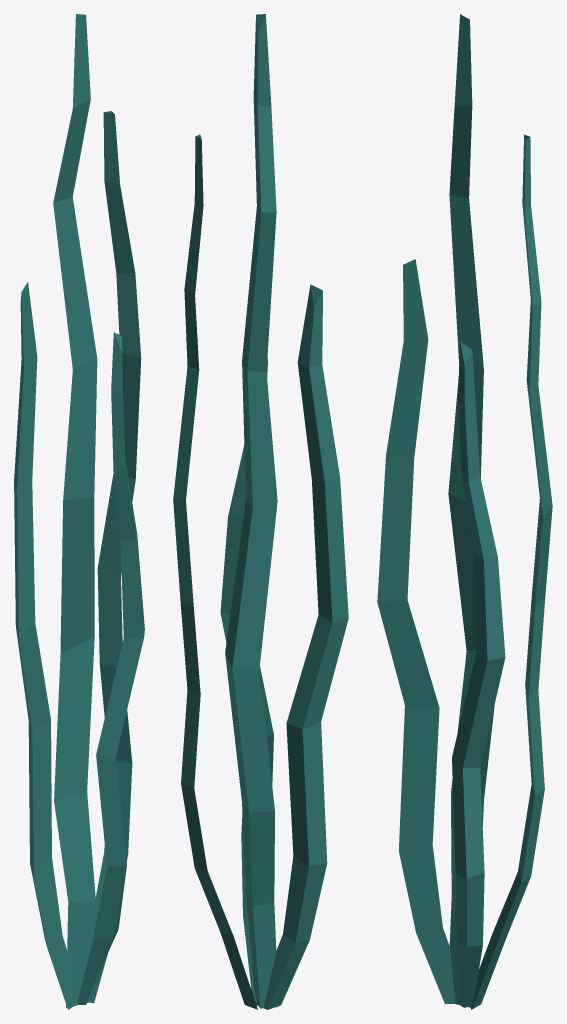
Rendered from SM_Water_Grass_Long_Dead_B.fbx.
3 views of the same model, side by side, from view 1: azimuth 30°, elevation 25°; view 2: azimuth 150°, elevation 25°; view 3: azimuth 330°, elevation 25° (orthographic).
Parts seen in each view (by area): view 1: water-grass-long-dead-b; view 2: water-grass-long-dead-b; view 3: water-grass-long-dead-b.
Part boxes in pixels (box(x1,y1,x2,y2)): water-grass-long-dead-b: box(14, 14, 144, 1009); water-grass-long-dead-b: box(173, 14, 348, 1009); water-grass-long-dead-b: box(377, 14, 552, 1009).
Size of the model in its own units: 0.5396 by 3.57 by 0.3102.
